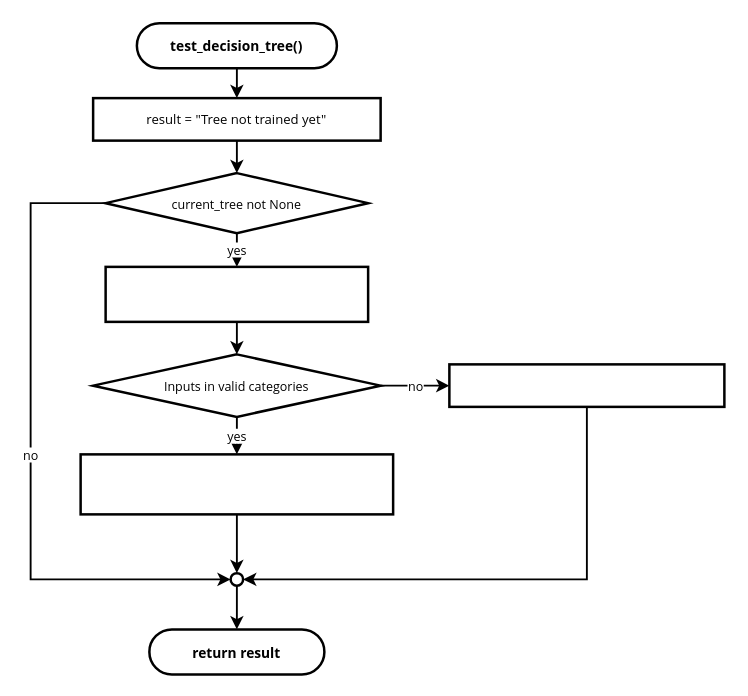
The diagram is 748 pixels wide and 696 high, and some of its shapes have lost their labels. Each missing label, with the centre of its shape:
Input weather, time_of_week, time_of_day: point 236,293
pred = predict(current_tree, sample) result = f'TrafficJam: {pred}': point 236,483
result = "Invalid categories": point 586,385
